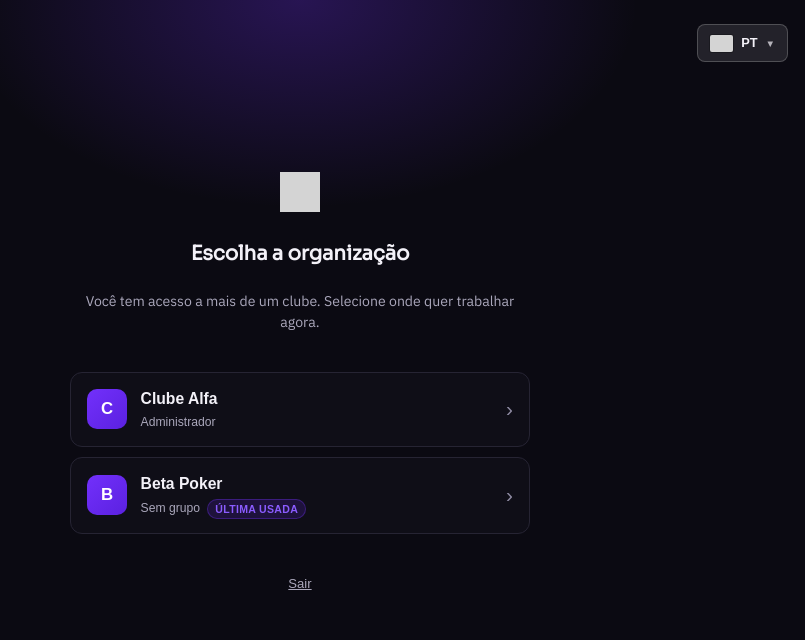
Scenario: entrada › falha sem mensagem usa um texto padrão
The image size is (805, 640).
Click the text "Clube Alfa" at (179, 399), box x1=141 y1=390 x2=218 y2=407
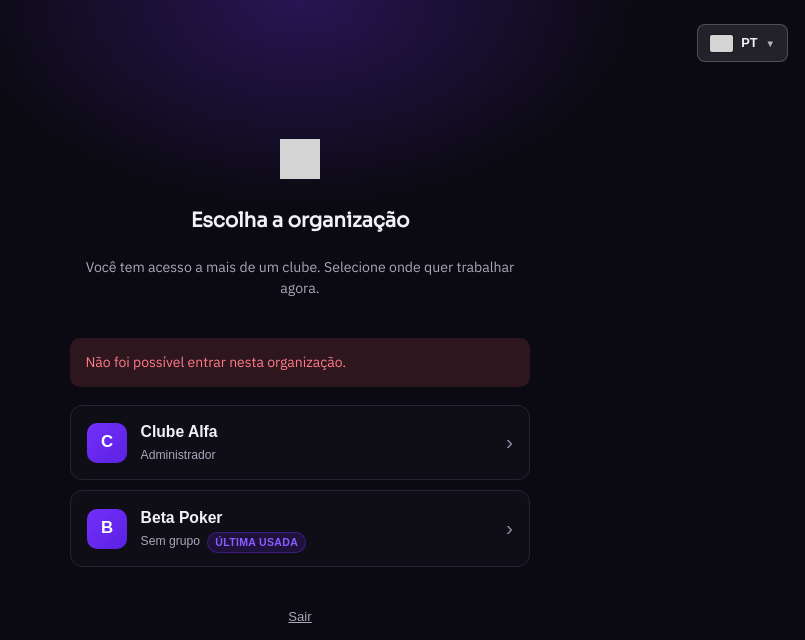
Now the text "Não foi possível entrar nesta organização." is shown, box x1=70 y1=338 x2=530 y2=387
